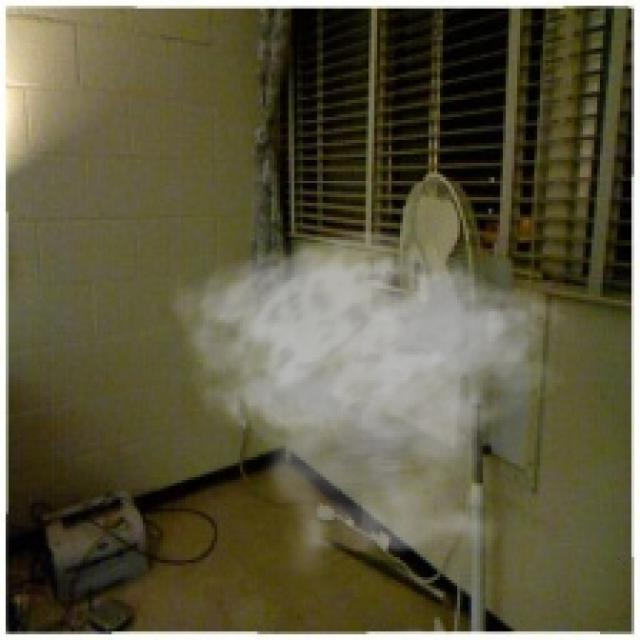smoke: (169, 228, 574, 586)
